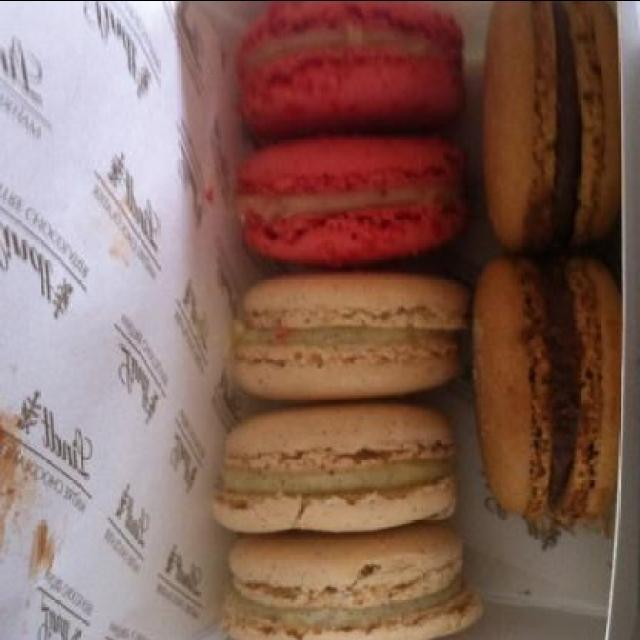Macaron: (218, 0, 616, 638)
